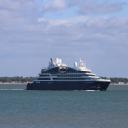cruises: (27, 58, 113, 94)
